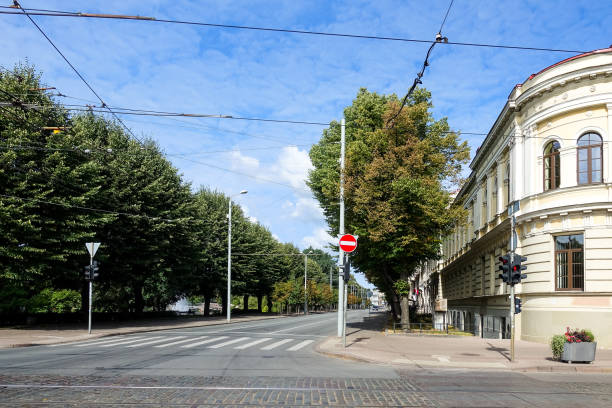Girilmez: (337, 233, 358, 254)
